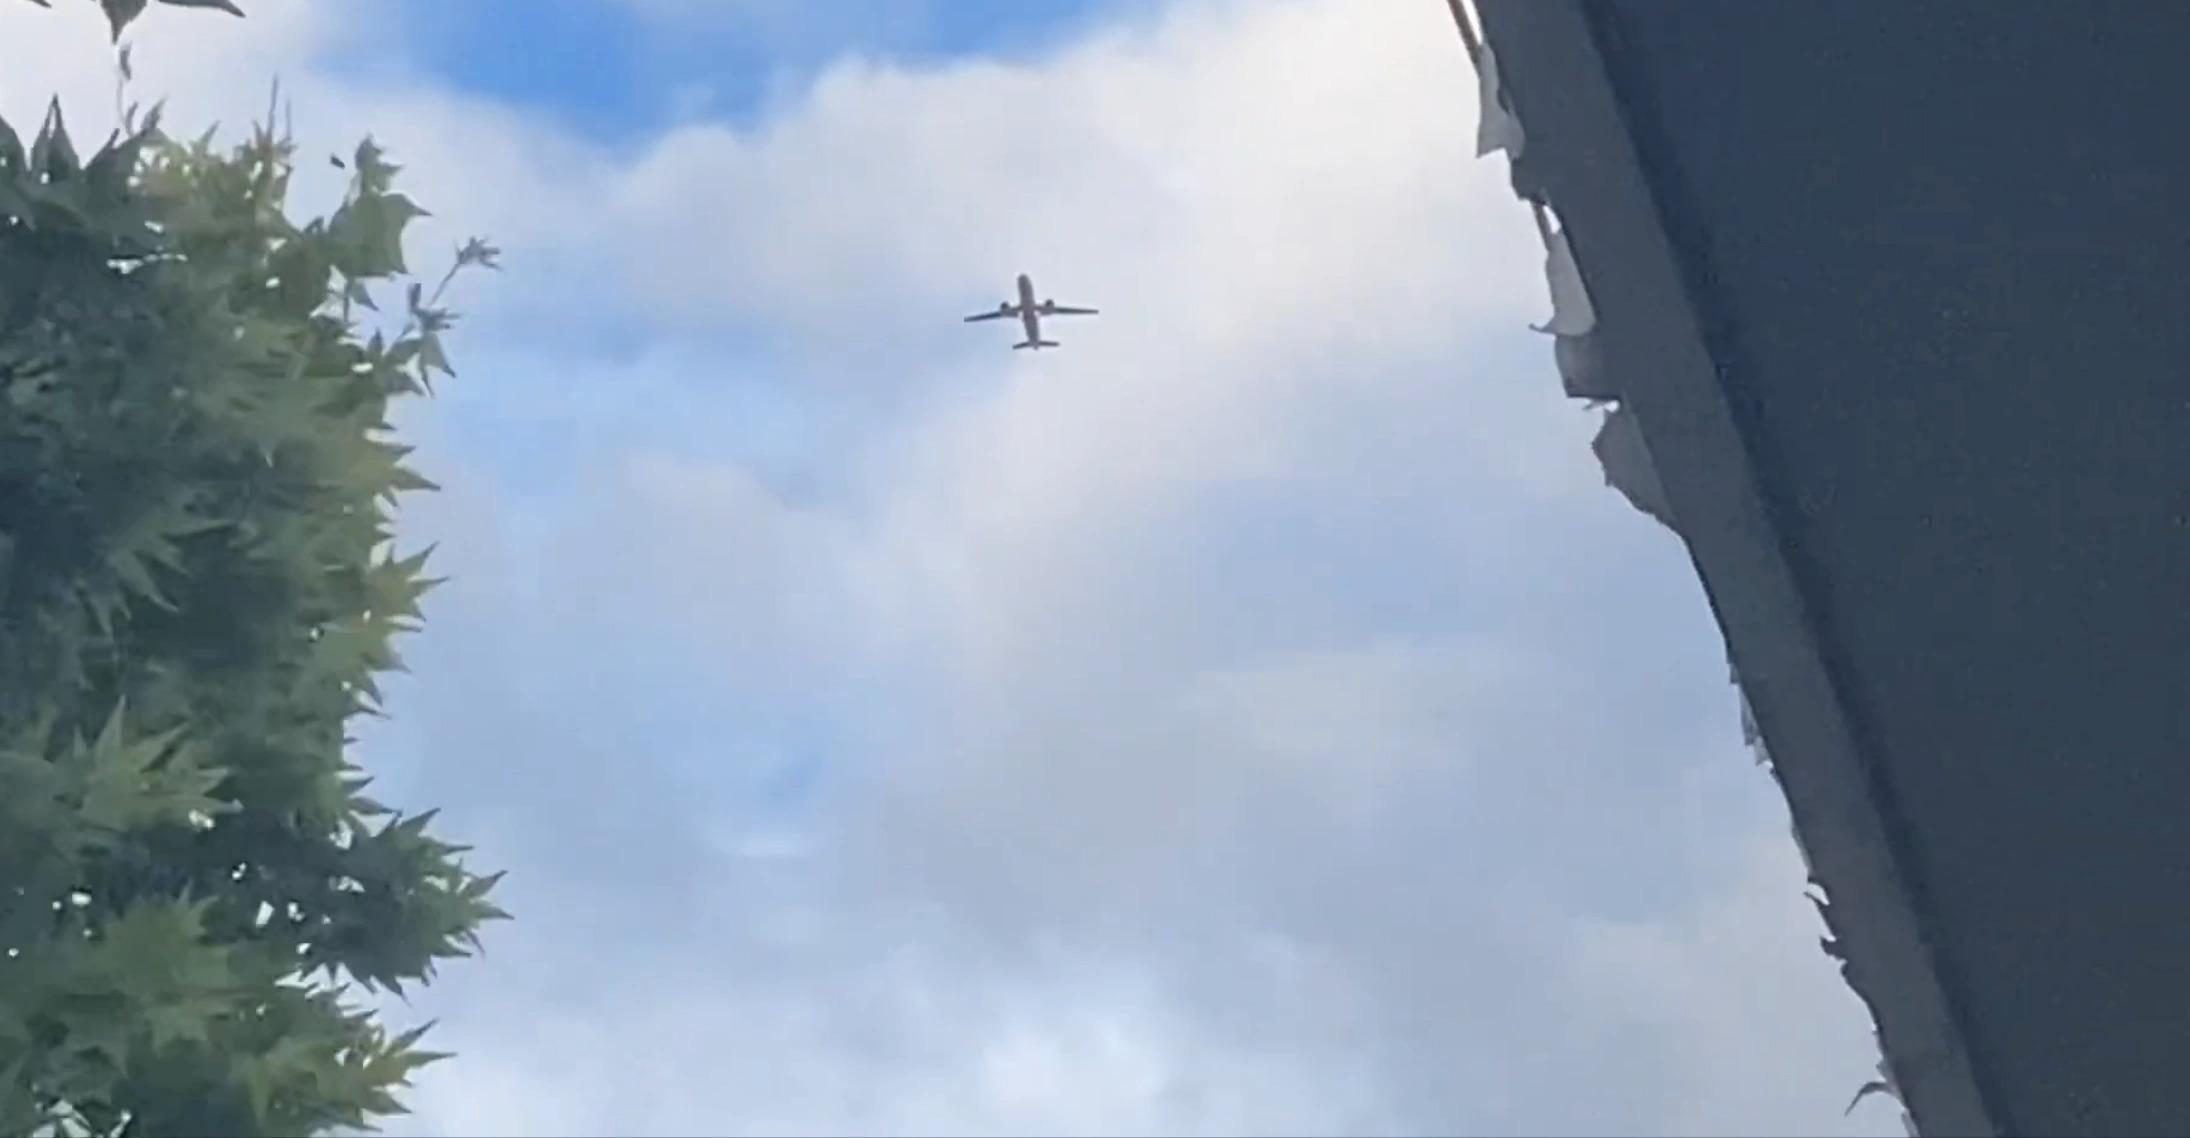Plane: (918, 250, 1137, 375)
